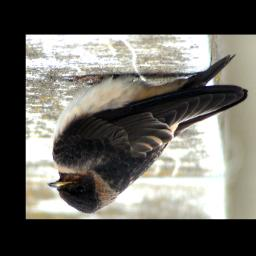Swallow: (46, 52, 249, 215)
